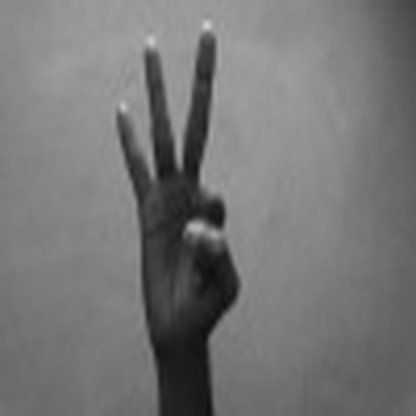f: (109, 20, 245, 335)
